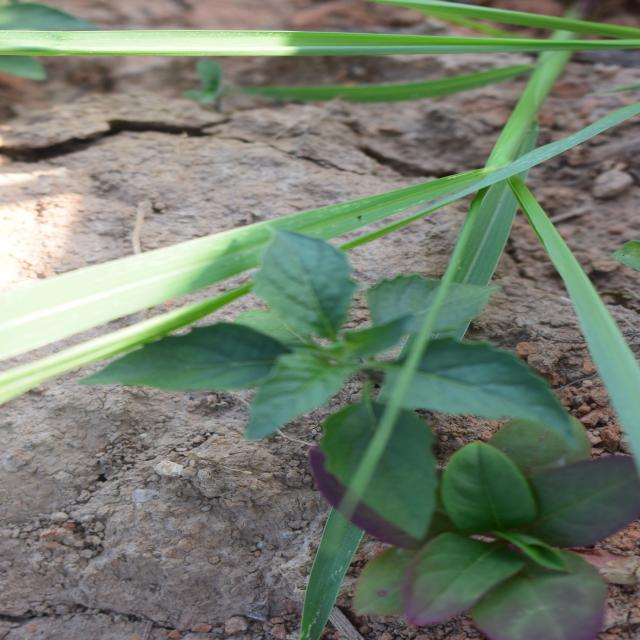Black_nightshade: (157, 179, 406, 508)
